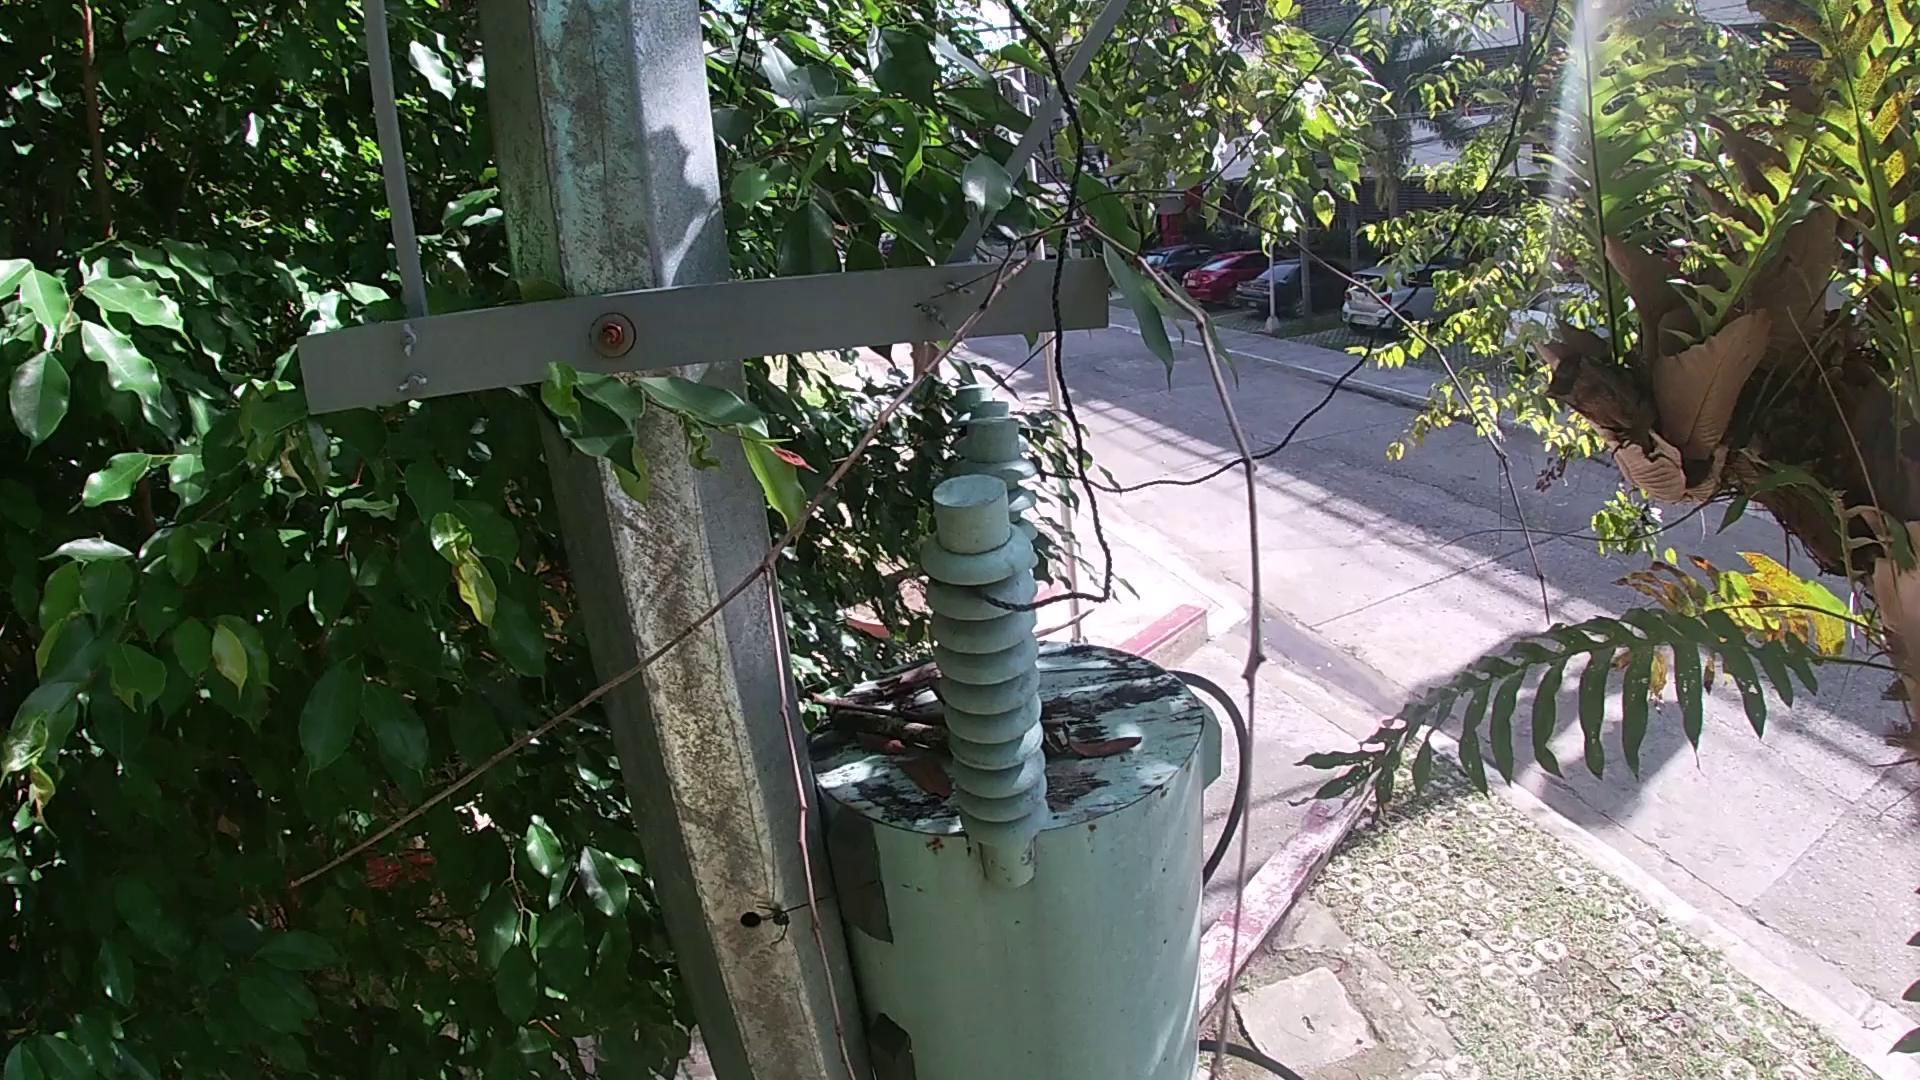leaf: (1058, 719, 1145, 761), (887, 750, 953, 806), (855, 729, 913, 760)
tree branch: (281, 185, 1567, 1077), (804, 696, 953, 756), (872, 663, 945, 709)
